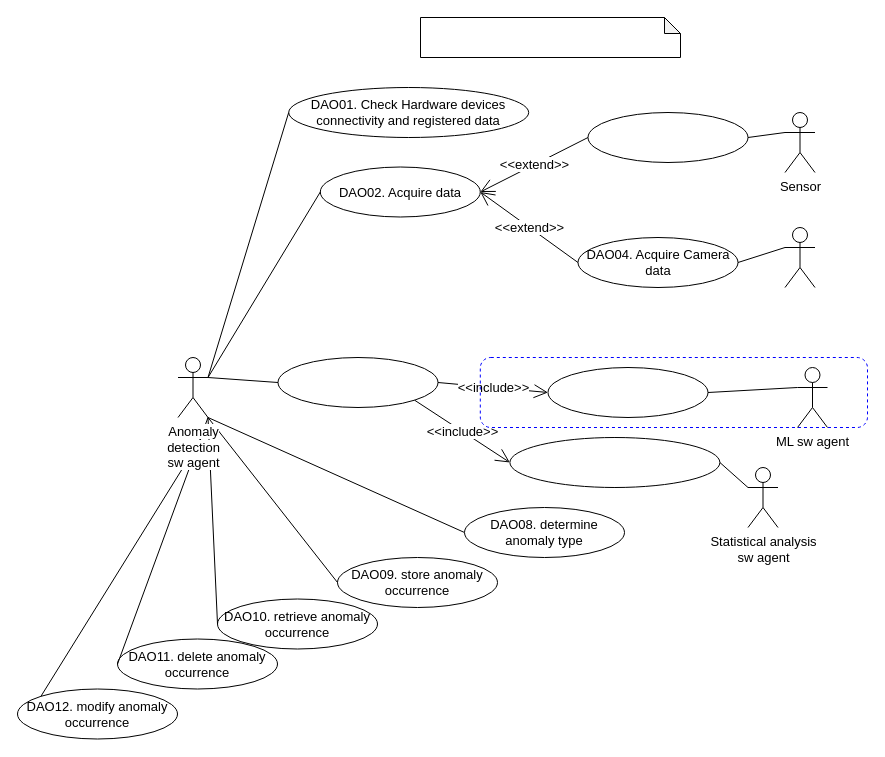
This 885x757 diagram has some shape labels left out. Here are the shapes that lost their labels. From the top down, the centre of each, then its label:
(x=550, y=37): Anomaly Detection Manager
(x=667, y=137): DAO03. Acquire Sensor data
(x=799, y=257): Camera
(x=357, y=382): DAO05. detect anomaly occurrence
(x=627, y=392): DAO06. detect anomaly occurrence using ml
(x=614, y=462): DAO07. detect anomaly occurrence using statistical method
